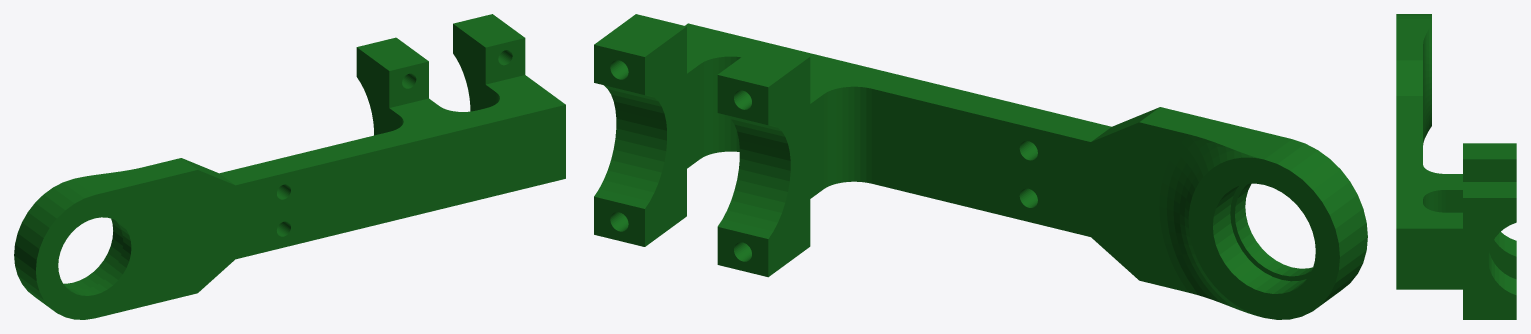
Rendered from arm_min.dae.
3 views of the same model, side by side, from view 1: azimuth 30°, elevation 25°; view 2: azimuth 150°, elevation 25°; view 3: azimuth 270°, elevation 25° (orthographic). The views are drawn at different scales.
Parts seen in each view (by area): view 1: Board 2; view 2: Board 2; view 3: Board 2.
Boxes of the visible parts, box(x1,y1,x2,y2) form: Board 2: box(14, 14, 565, 319); Board 2: box(594, 14, 1367, 319); Board 2: box(1396, 14, 1516, 319).
Bounding box in the file's own units: 0.1123 × 0.0269 × 0.03.
